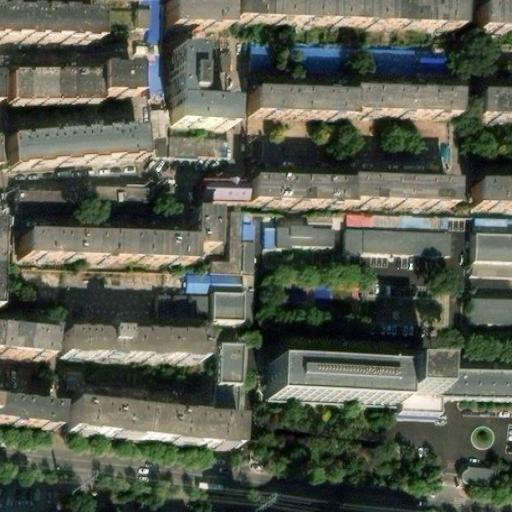building: (70, 404, 239, 449), (250, 45, 450, 75), (277, 358, 408, 402), (19, 121, 153, 164), (22, 240, 196, 270), (173, 49, 235, 128), (17, 187, 158, 221), (248, 0, 465, 22), (63, 337, 204, 369), (343, 227, 451, 259), (252, 172, 359, 204), (16, 65, 109, 101), (358, 170, 468, 200), (212, 209, 259, 278), (348, 95, 457, 124), (247, 95, 348, 123), (157, 292, 243, 324), (440, 366, 512, 402), (109, 0, 147, 64), (0, 331, 57, 364), (0, 401, 62, 431), (263, 226, 332, 251), (168, 137, 232, 160), (162, 0, 227, 22), (201, 175, 253, 201), (470, 235, 512, 267), (333, 499, 435, 512), (467, 297, 512, 326), (469, 179, 512, 209), (0, 205, 12, 304), (220, 343, 248, 382), (407, 361, 439, 395), (109, 63, 145, 92), (189, 276, 244, 294), (196, 216, 221, 255), (459, 463, 496, 488), (470, 216, 511, 232), (489, 86, 512, 112), (489, 0, 512, 24)
